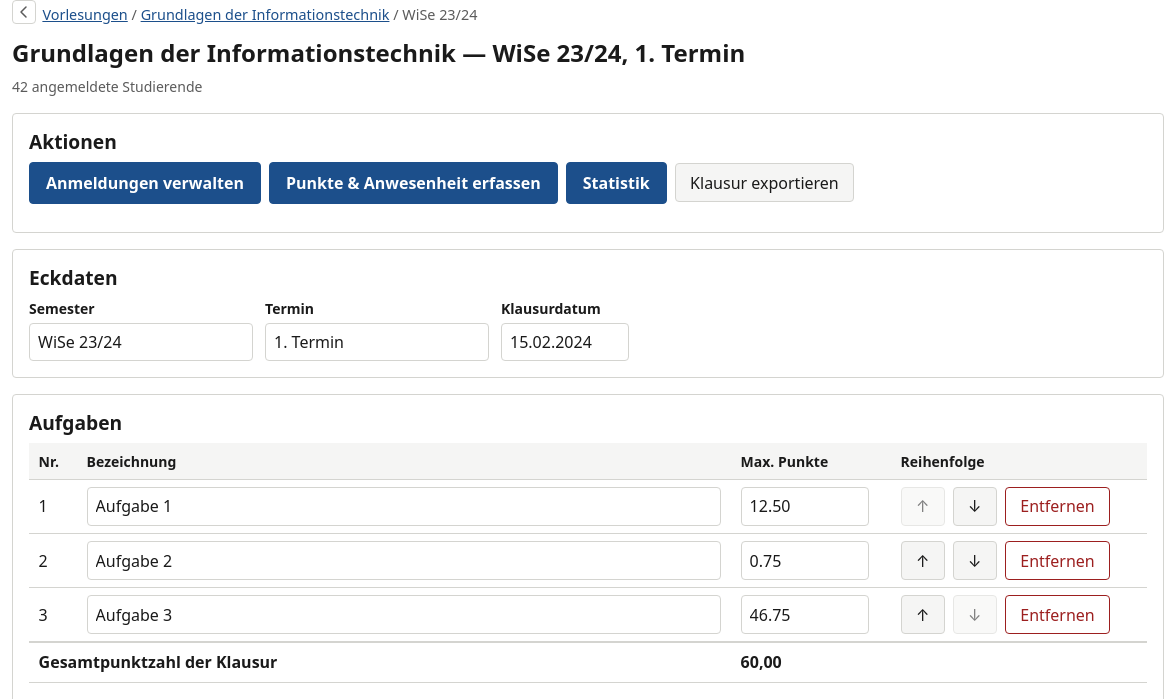
Scenario: ExamDetailPage — grading preview › counts a cleared exercise field as 0 in the total instead of hiding it (Fix 1)
This screenshot has width=1164, height=699.
Clear the field named "Maximale Punkte der Aufgabe 1" at (805, 506), box top-left (741, 487), bottom-right (869, 526)
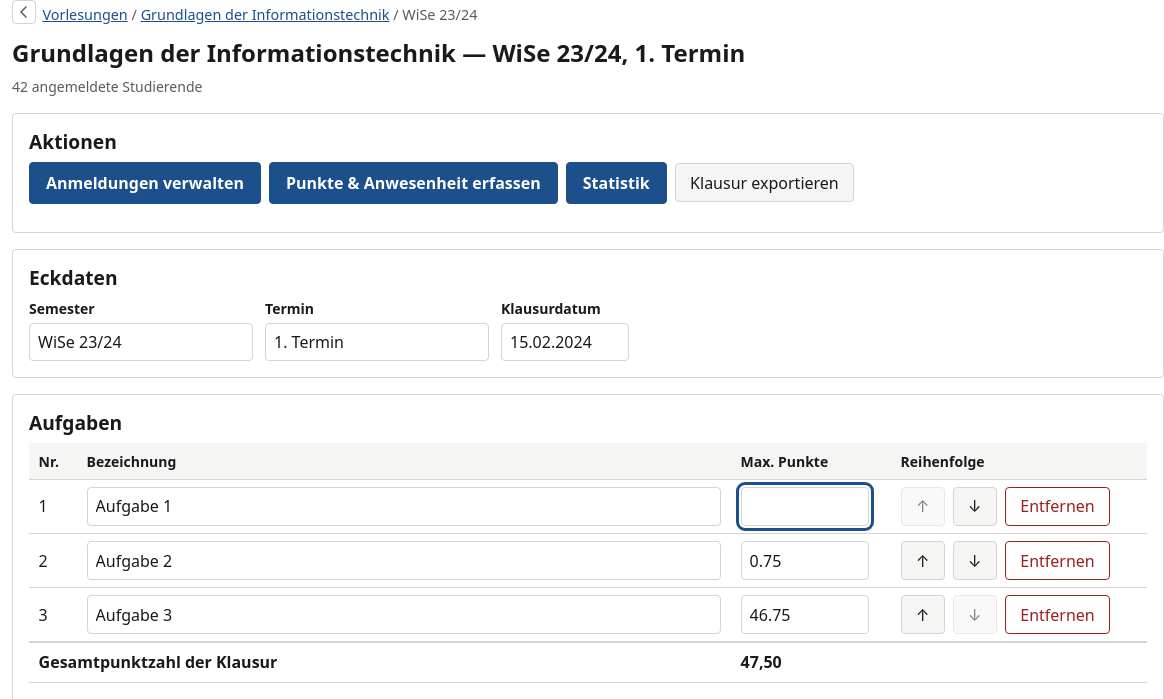
Expected: the element with test id "threshold-1.0" does not show "—"
Now the cell with test id "total-max-points" reads "47,50", box top-left (741, 651), bottom-right (782, 673)
